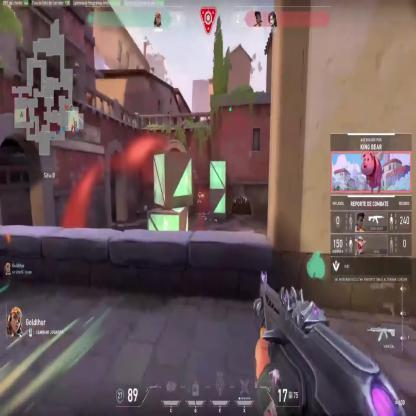enemy: (196, 190, 203, 214)
enemy_head: (198, 191, 200, 196)
